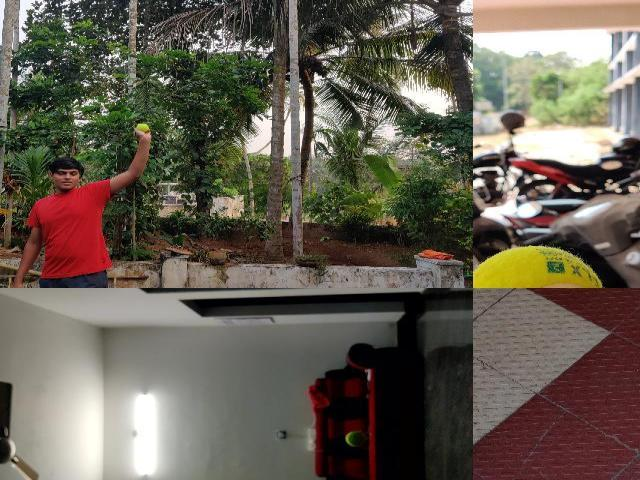tennis-ball: (473, 244, 607, 288), (344, 431, 368, 447), (136, 123, 148, 132)
